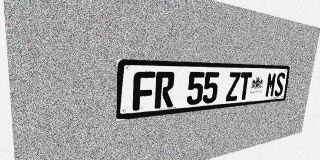5: (186, 72, 205, 105), (202, 72, 219, 104)
F: (132, 71, 155, 111)
M: (265, 72, 277, 98)
R: (154, 72, 175, 109)
S: (274, 72, 286, 97)
T: (238, 72, 252, 100)
Z: (226, 72, 241, 102)
